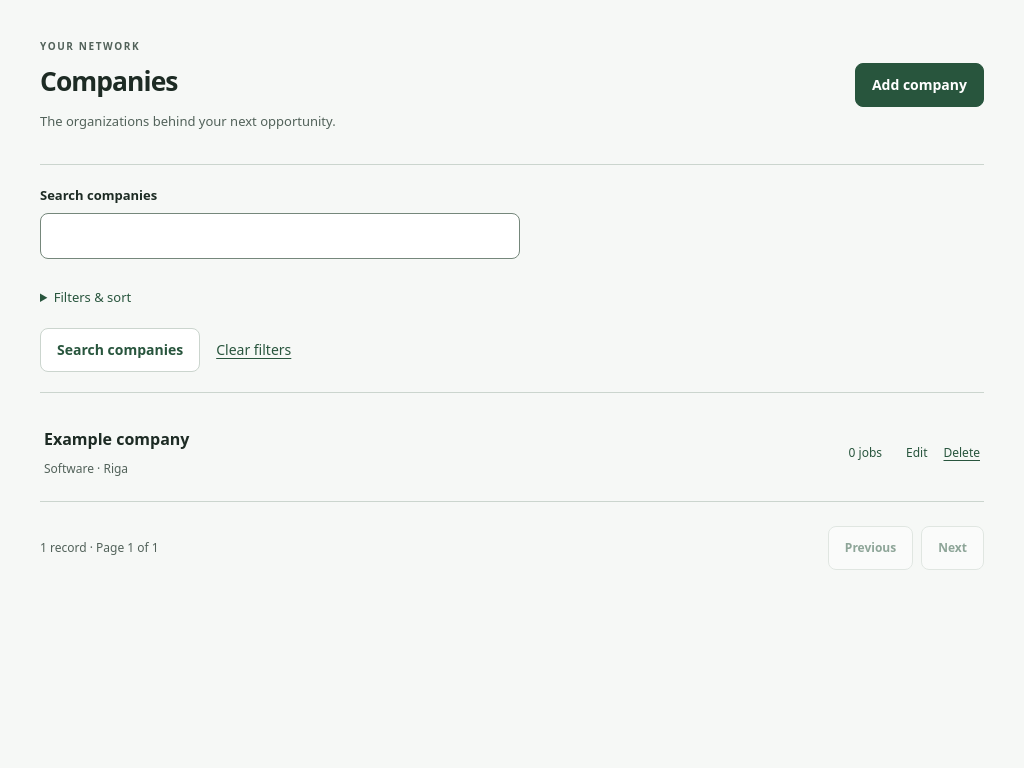
Test: deletes with the current version and refreshes the list
Expected: the link "Example company" is shown, [44,428,190,450]
What coordinates should you click on to do the following:
click the button "Delete"
I would click on:
 (962, 453)
Its box is [944,438,980,469].
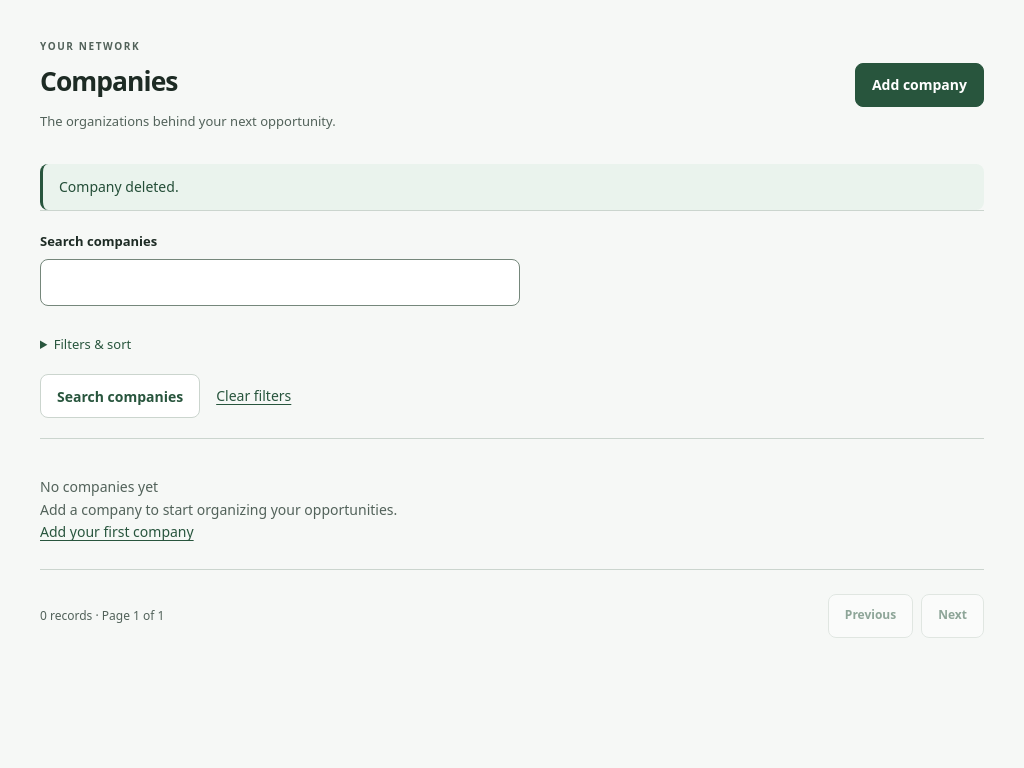
Expected: the text "Company deleted." is shown, [40,164,984,210]
